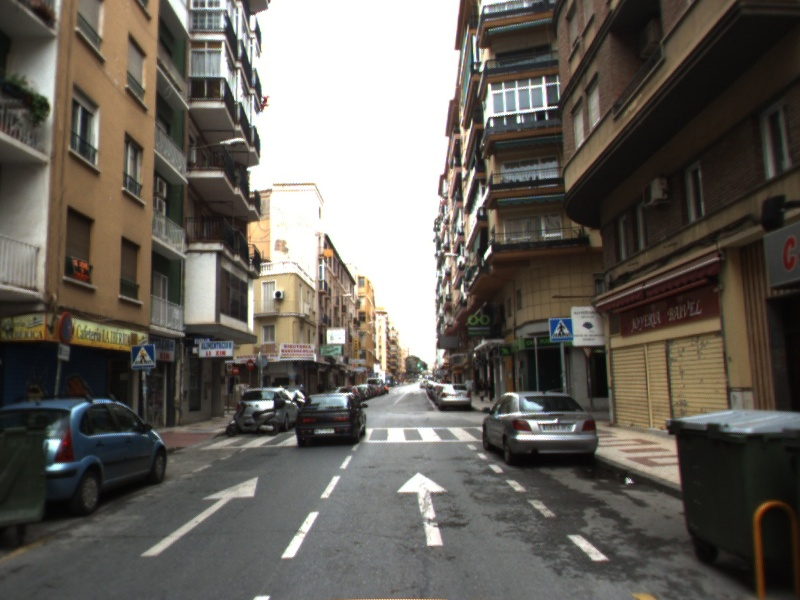STRAIGHT: (138, 474, 261, 559), (395, 469, 451, 548)
